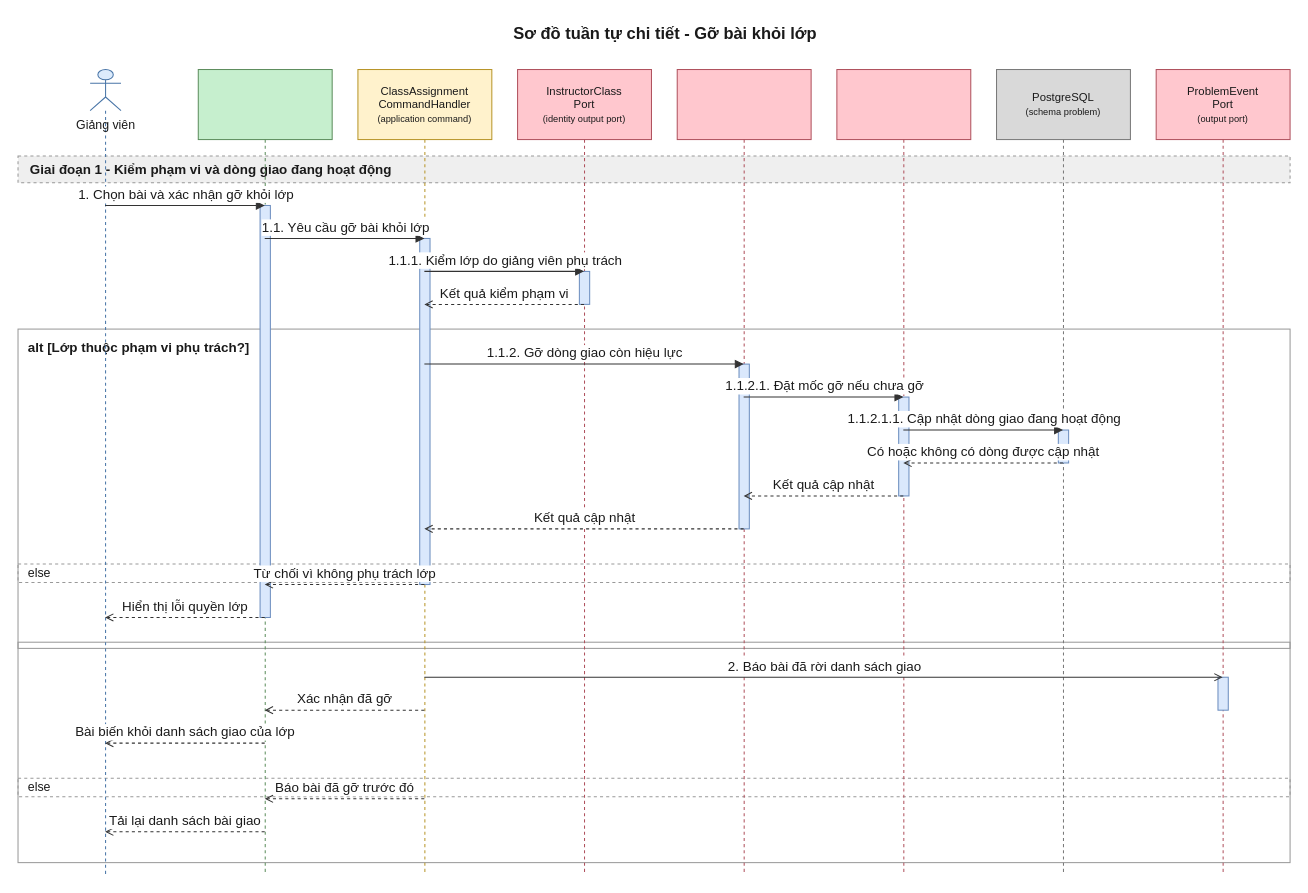
The diagram is 1308 pixels wide and 893 high, and some of its shapes have lost their labels. The box of each missing label's shape, as (x1, y1, x2, y2) in pixels:
alt [Đã gỡ được dòng đang hoạt động?]: (17, 641, 1290, 863)
ClassAssignment Controller (presentation): (197, 68, 332, 875)
ClassAssignment Repository (output port): (676, 68, 811, 875)
JdbcClass Assignment Repository (persistence adapter): (836, 68, 971, 875)
